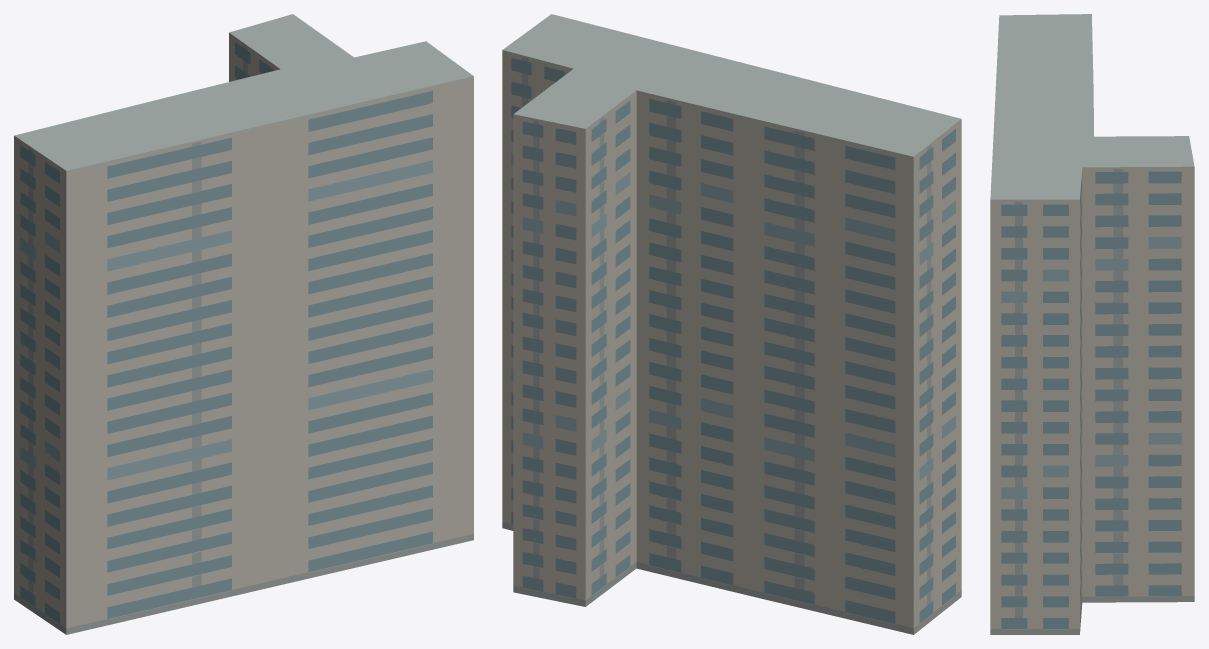
The model's file is residential-b6441d3c-97de-436d-ae02-516fe53bc864.glb.
3 views of the same model, side by side, from view 1: azimuth 30°, elevation 25°; view 2: azimuth 150°, elevation 25°; view 3: azimuth 270°, elevation 25° (orthographic). The views are drawn at different scales.
Parts seen in each view (by area): view 1: residential-b6441d3c-97de-436d-ae02-516fe53bc864.tmp; view 2: residential-b6441d3c-97de-436d-ae02-516fe53bc864.tmp; view 3: residential-b6441d3c-97de-436d-ae02-516fe53bc864.tmp.
Part boxes in pixels (x1,y1,x2,y2): residential-b6441d3c-97de-436d-ae02-516fe53bc864.tmp: (14, 14, 473, 634); residential-b6441d3c-97de-436d-ae02-516fe53bc864.tmp: (502, 14, 961, 634); residential-b6441d3c-97de-436d-ae02-516fe53bc864.tmp: (990, 14, 1194, 634).
Size of the model in its own units: 51.25 by 56 by 23.82.
